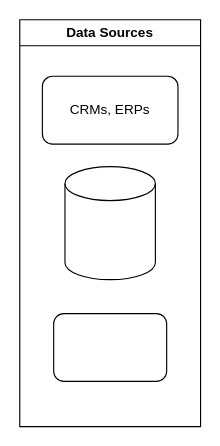
Some shapes in this 220 by 446 pixel diagram are drawn without their labels. The shapes that lost their labels are listed below. From the top down, each one's centre as x and y in pixels, then its label:
At point 109,223: "Database".
At point 110,346: "Applications ....".
